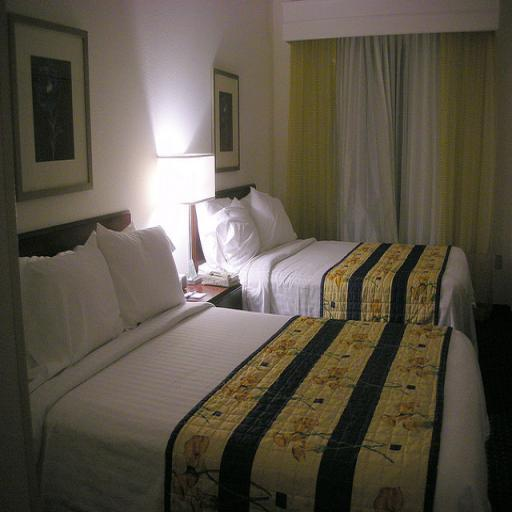bed: (2, 200, 490, 506)
